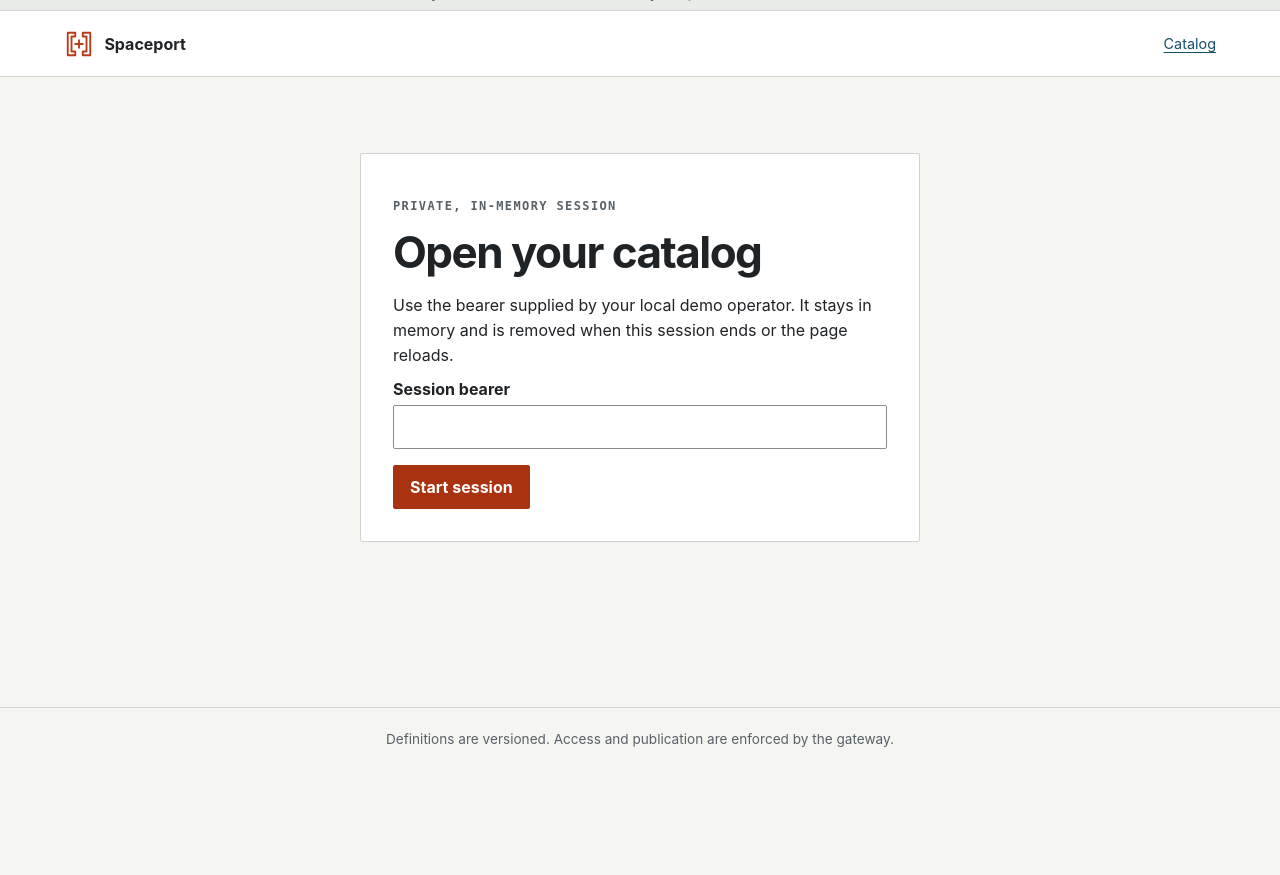
clears rows and pagination when execution access is revoked
In the password field labelled "Session bearer": {"x": 640, "y": 427} [393,405,887,449], type "synthetic-test"
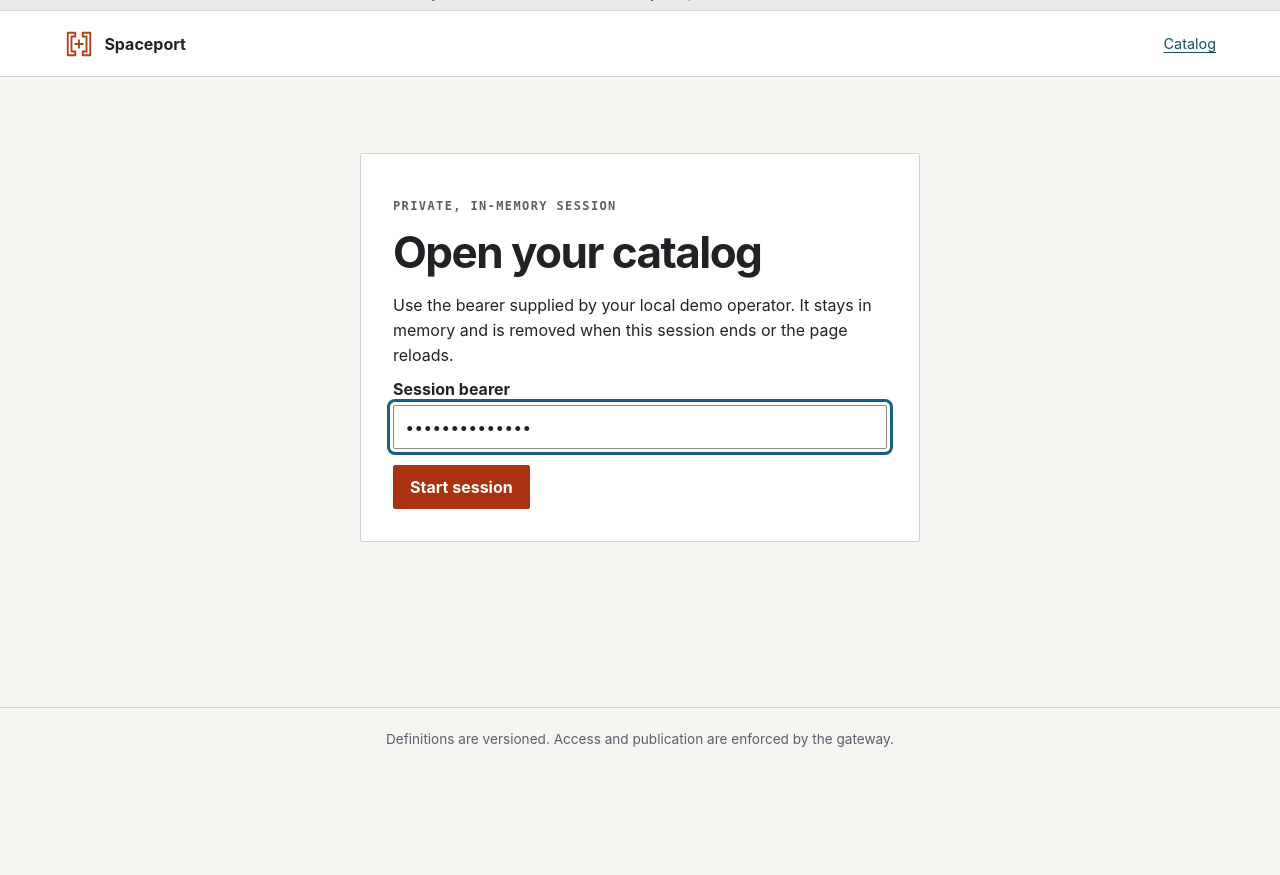
Click the button "Start session": {"x": 461, "y": 487} [393,465,530,509]
(page scrolled)
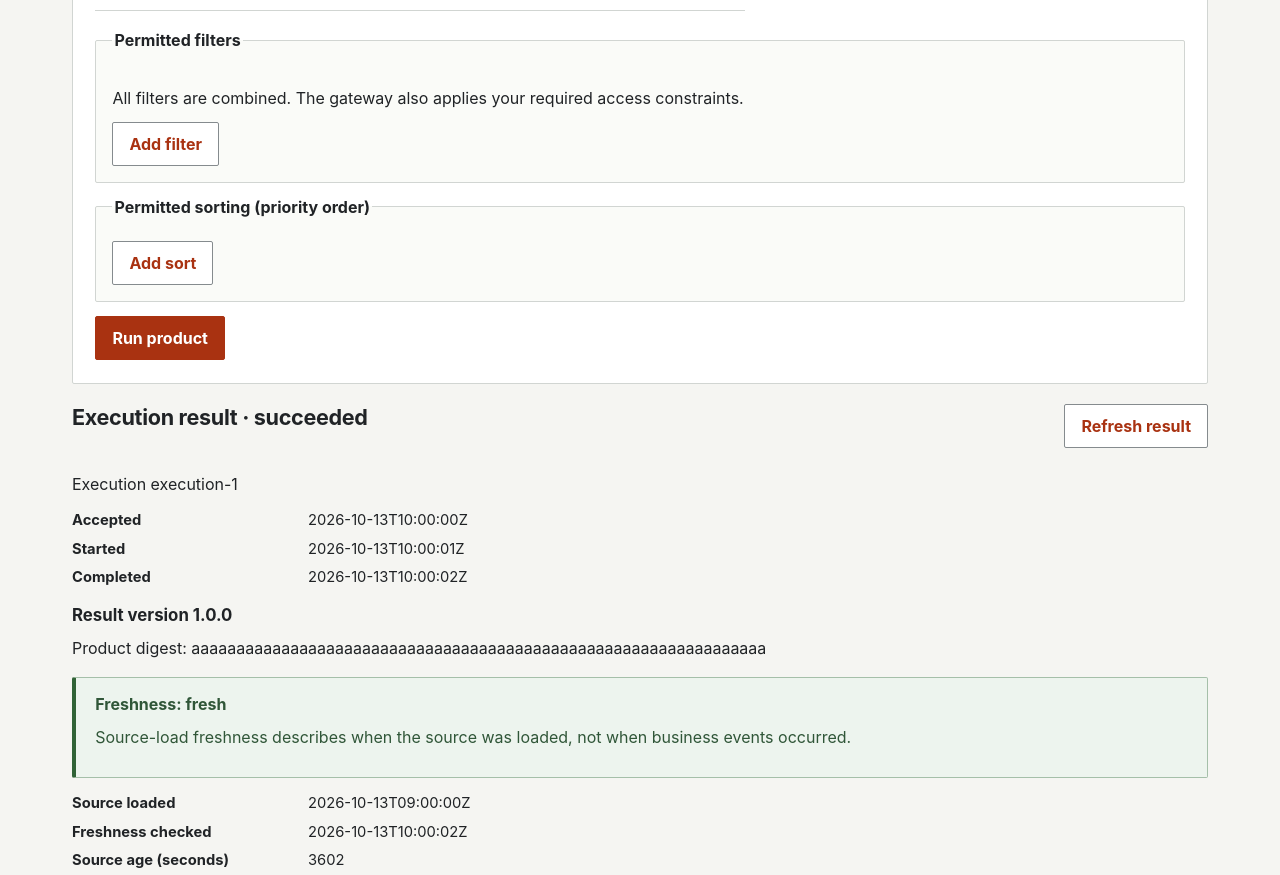
Click the button "Refresh result": {"x": 1136, "y": 426} [1064,404,1208,448]
(page scrolled)
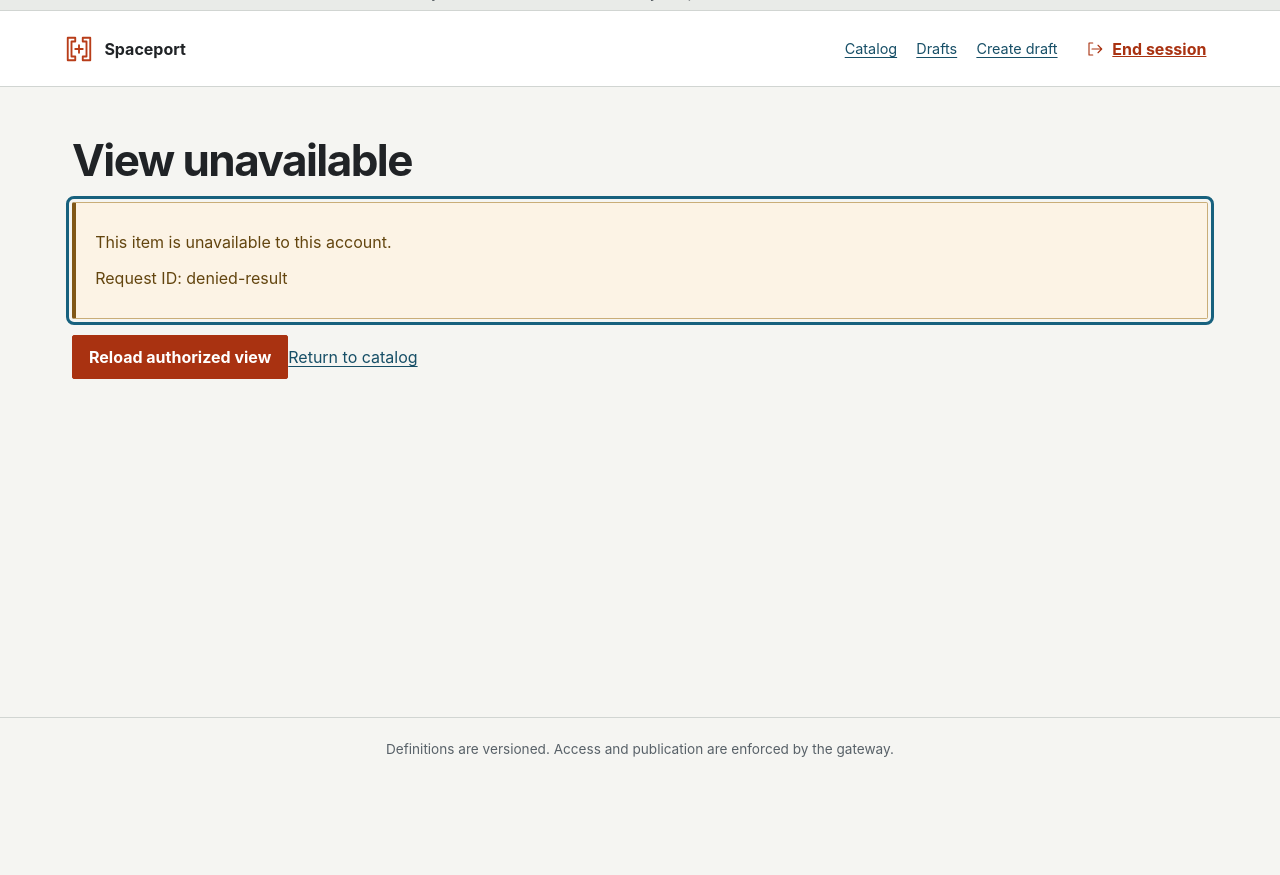
Now the message shows "unavailable to this account", box [95,232,392,252]
